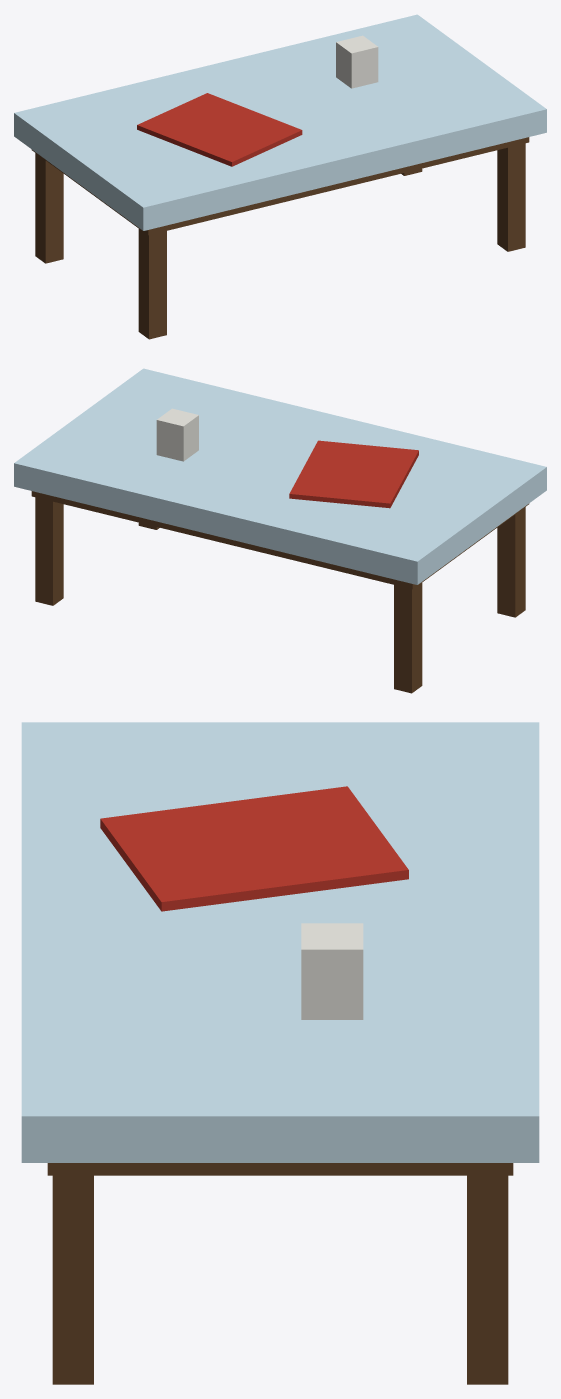
Rendered from coffee-table.glb.
3 renders of one model, top to bottom at view 1: azimuth 30°, elevation 25°; view 2: azimuth 150°, elevation 25°; view 3: azimuth 270°, elevation 25°, orthographic. The views are drawn at different scales.
Parts seen in each view (by area): view 1: part-clear-tabletop, part-wood, part-magazine, part-mug; view 2: part-clear-tabletop, part-wood, part-magazine, part-mug; view 3: part-clear-tabletop, part-magazine, part-wood, part-mug.
Part boxes in pixels (box(x1,y1,x2,y2)): part-clear-tabletop: box(14, 14, 546, 230); part-wood: box(31, 137, 529, 339); part-magazine: box(137, 93, 302, 166); part-mug: box(336, 35, 378, 88); part-clear-tabletop: box(14, 368, 546, 584); part-wood: box(31, 491, 529, 693); part-magazine: box(289, 440, 418, 508); part-mug: box(156, 408, 198, 461); part-clear-tabletop: box(21, 722, 539, 1162); part-magazine: box(100, 786, 408, 911); part-wood: box(47, 1163, 513, 1384); part-mug: box(301, 923, 363, 1019).
Bounding box in the file's own units: 36 × 15 × 20.
